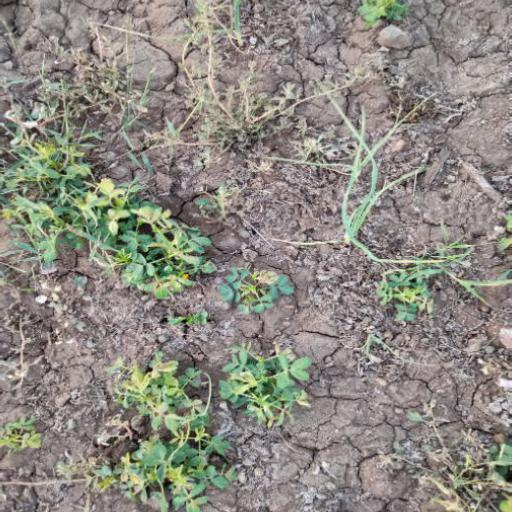weed: (272, 81, 459, 311), (45, 133, 228, 312), (52, 355, 227, 512), (218, 342, 313, 431)
